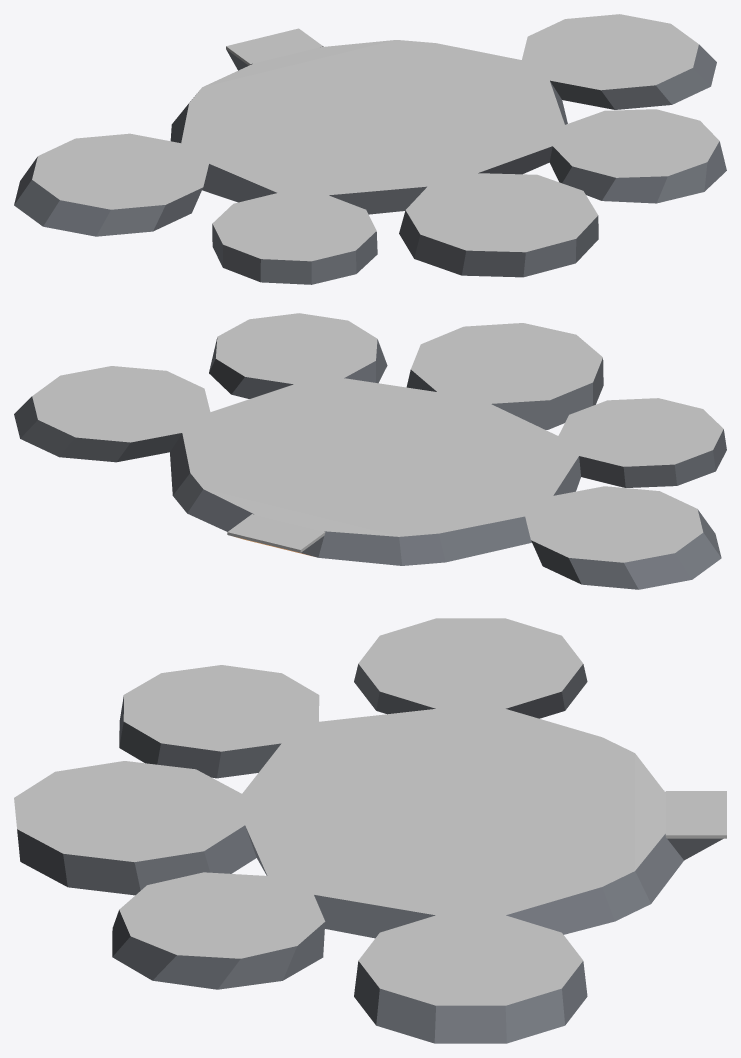
The model's file is levelend4 (1).fbx.
3 renders of one model, top to bottom at view 1: azimuth 30°, elevation 25°; view 2: azimuth 150°, elevation 25°; view 3: azimuth 270°, elevation 25°, orthographic. The views are drawn at different scales.
Parts seen in each view (by area): view 1: road.004; view 2: road.004; view 3: road.004.
Boxes of the visible parts, x1=… form: road.004: x1=14, y1=14, x2=726, y2=284; road.004: x1=14, y1=313, x2=726, y2=589; road.004: x1=14, y1=618, x2=726, y2=1043.
Size of the model in its own units: 59.34 by 2.18 by 43.75.
